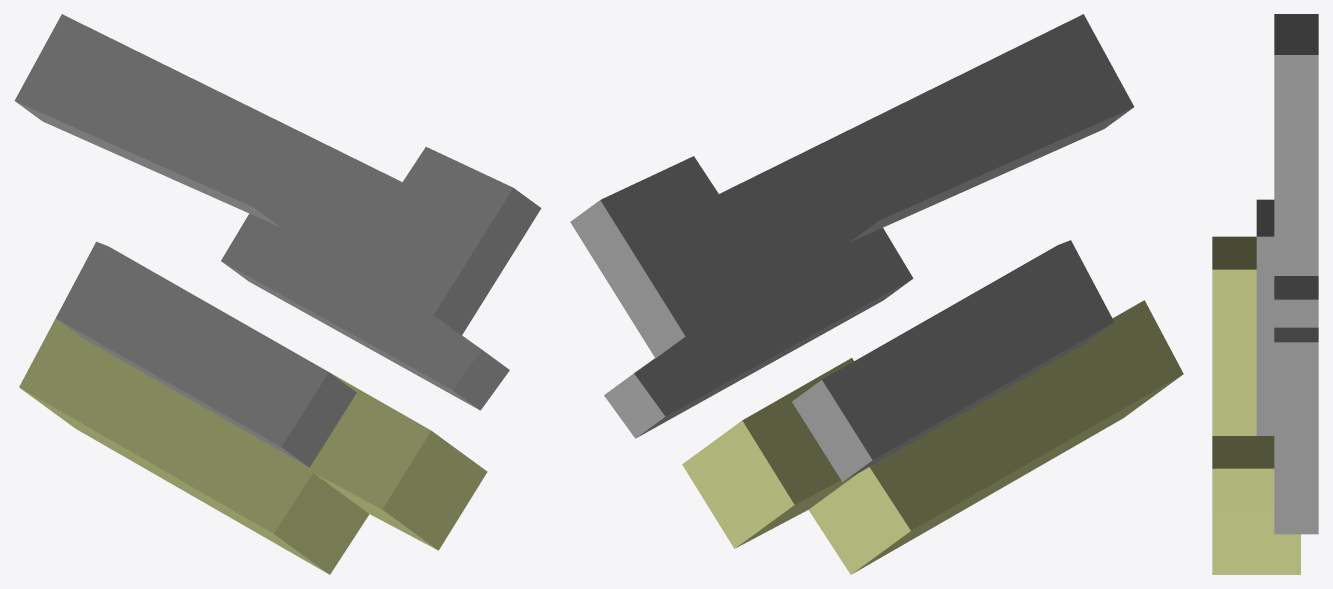
3 renders of one model, left to right at view 1: azimuth 30°, elevation 25°; view 2: azimuth 150°, elevation 25°; view 3: azimuth 270°, elevation 25°, orthographic. The views are drawn at different scales.
Visible parts, largest first — view 1: 0_1_0_0_0_0_1_2_2; view 2: 0_1_0_0_0_0_1_2_2; view 3: 0_1_0_0_0_0_1_2_2.
Boxes of the visible parts, x1,y1,x2,y2 form: 0_1_0_0_0_0_1_2_2: (14,14,541,574); 0_1_0_0_0_0_1_2_2: (570,14,1183,574); 0_1_0_0_0_0_1_2_2: (1212,14,1318,574).
Size of the model in its own units: 31.15 by 33.13 by 7.2.
